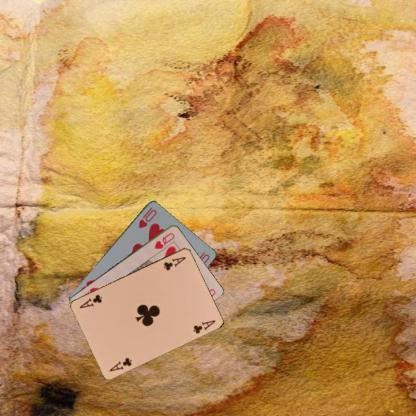10h: (136, 204, 158, 230)
Ac: (106, 354, 134, 372), (161, 254, 187, 272)
Qh: (151, 230, 176, 250)
